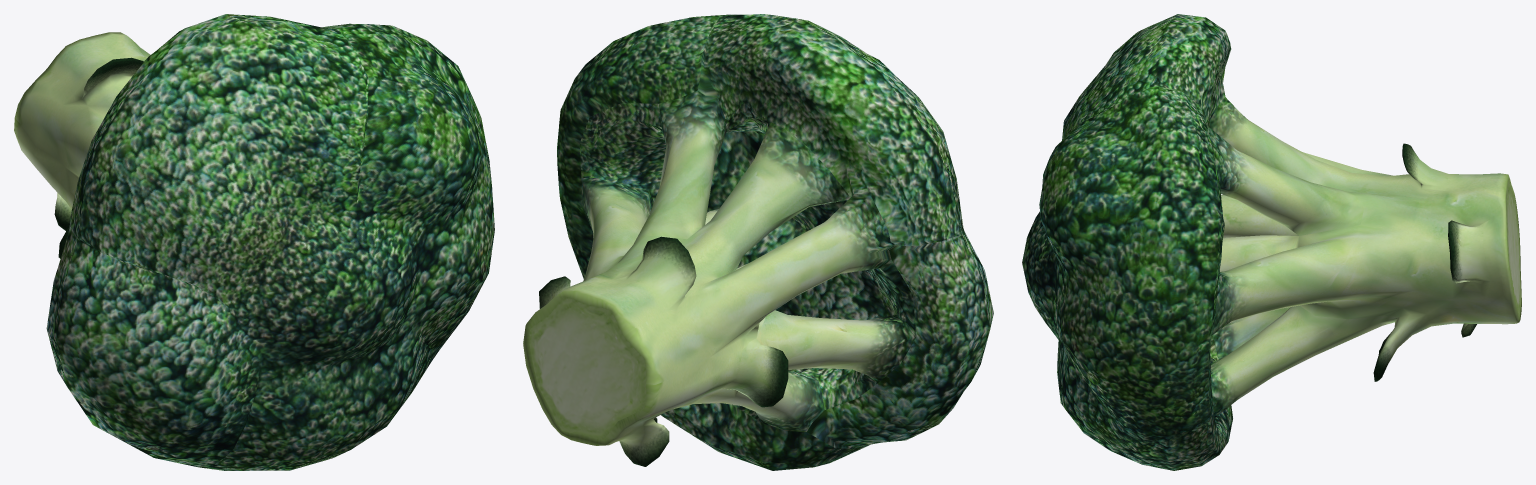
The model's file is Broccoli.obj.
3 renders of one model, left to right at view 1: azimuth 30°, elevation 25°; view 2: azimuth 150°, elevation 25°; view 3: azimuth 270°, elevation 25°, orthographic. The views are drawn at different scales.
Parts seen in each view (by area): view 1: Broccoli; view 2: Broccoli; view 3: Broccoli.
Part boxes in pixels (x1=…): Broccoli: x1=14, y1=14, x2=494, y2=470; Broccoli: x1=523, y1=14, x2=993, y2=470; Broccoli: x1=1022, y1=14, x2=1521, y2=470.
Bounding box in the file's own units: 2 × 2 × 2.2.
Materials: 1 (1 with a texture image).
